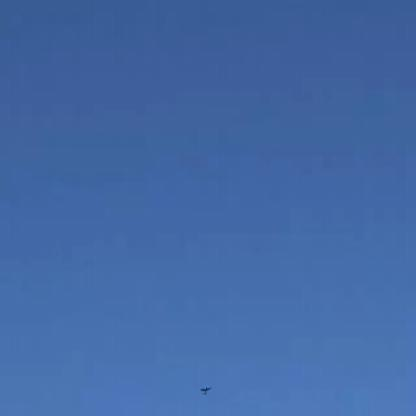CIV_Plane: (199, 385, 211, 394)
